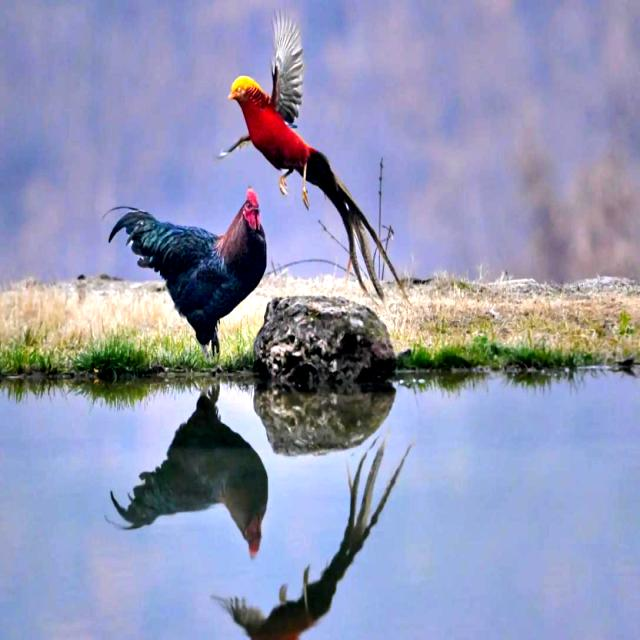Chrysolophus pictus feather: (306, 153, 399, 299)
